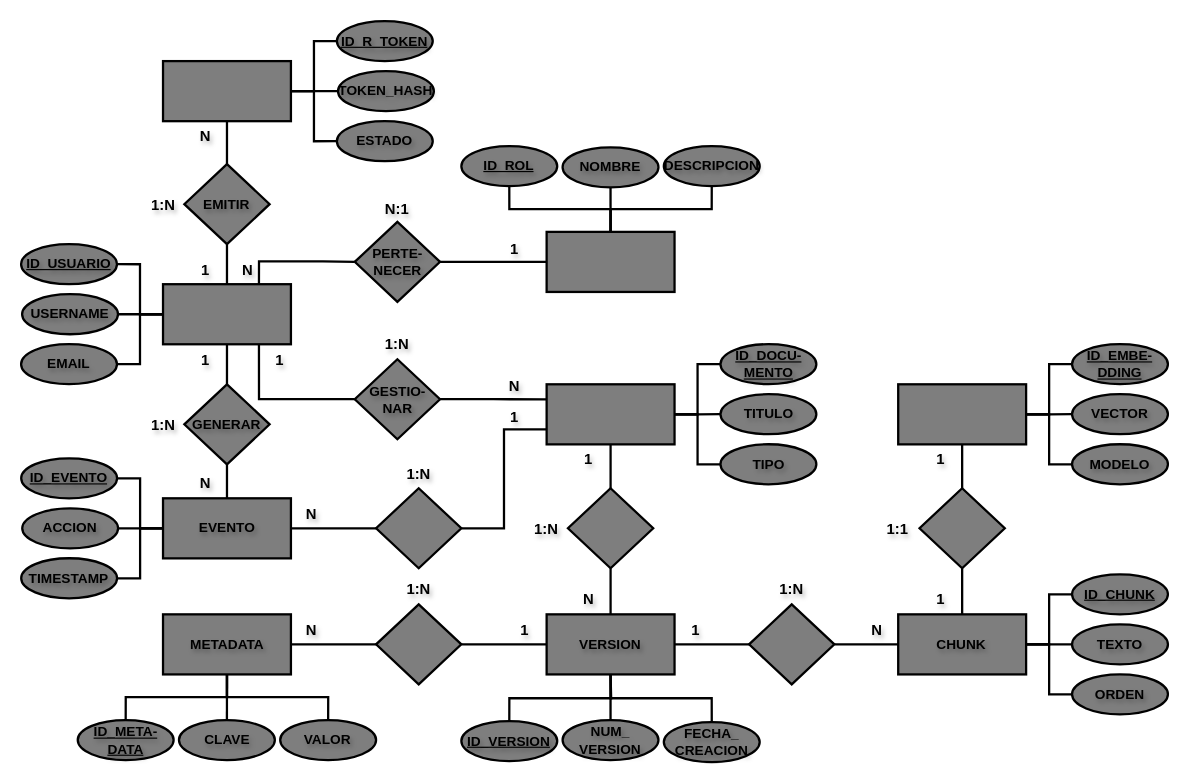
Some shapes in this 1188 by 782 pixel diagram are drawn without their labels. The shapes that lost their labels are listed below. From the top down, each one's box as (x1, y1, x2, y2) in pixels, then its label:
(161, 59, 291, 122): REFRESH_TOKEN
(545, 230, 675, 293): ROL
(161, 282, 291, 345): USUARIO
(545, 383, 675, 445): DOCUMENTO
(896, 383, 1027, 445): EMBEDDING
(374, 487, 462, 569): REGIS- TRAR
(566, 487, 654, 569): VERSIO- NAR
(918, 487, 1005, 569): VECTO- RIZAR
(374, 603, 462, 685): ASOCIAR
(747, 603, 835, 685): SEGMEN- TAR
